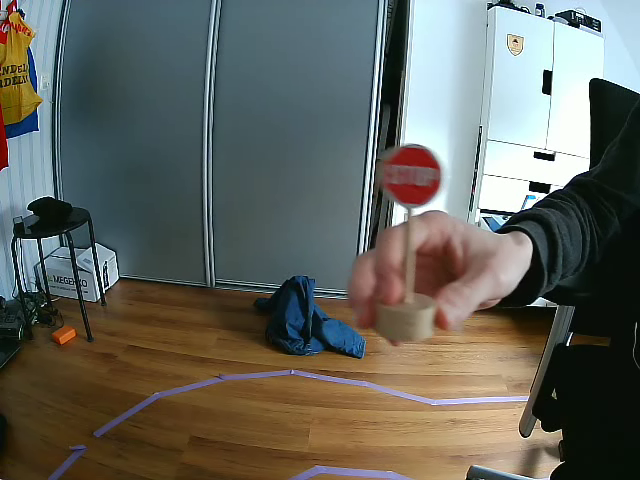stopbord: (380, 145, 442, 205)
